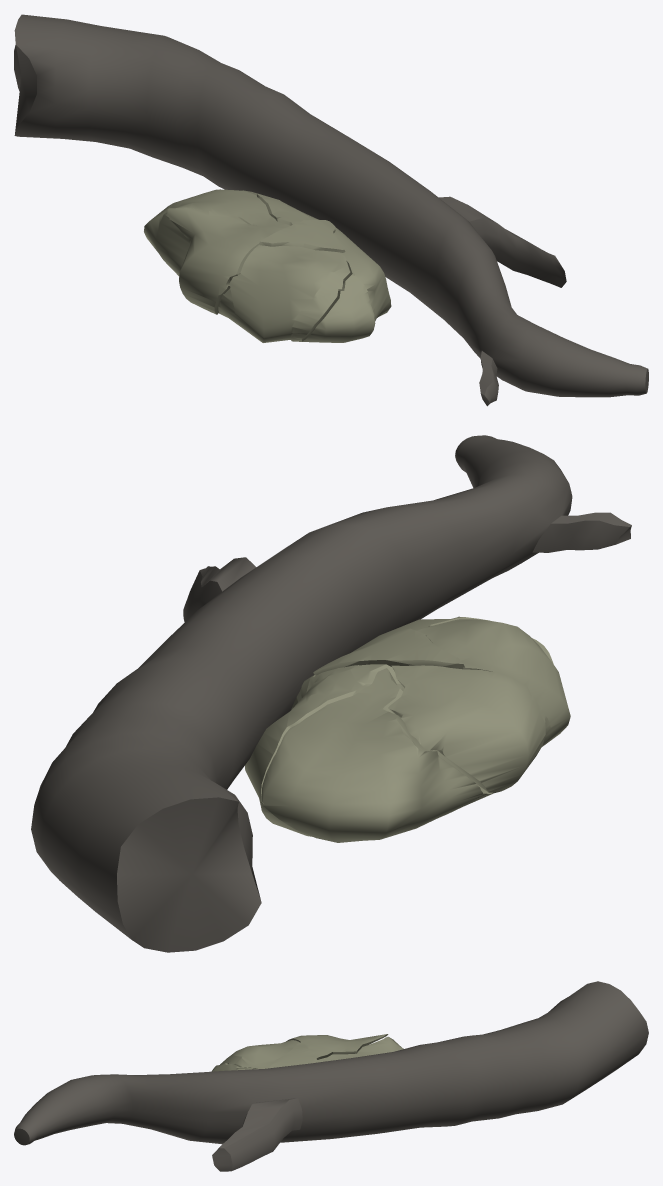
File: Twig_Rock.fbx
The picture shows the model from 3 angles, top to bottom: view 1: azimuth 30°, elevation 25°; view 2: azimuth 150°, elevation 25°; view 3: azimuth 270°, elevation 25°; orthographic projection. The views are drawn at different scales.
Visible parts, largest first — view 1: tiwg, rock1; view 2: tiwg, rock1; view 3: tiwg, rock1.
Boxes of the visible parts, bbox=[...] form: tiwg: bbox=[14, 14, 648, 406]; rock1: bbox=[144, 189, 391, 342]; tiwg: bbox=[31, 435, 631, 952]; rock1: bbox=[245, 616, 570, 842]; tiwg: bbox=[14, 981, 648, 1171]; rock1: bbox=[211, 1034, 403, 1071].
Bounding box in the file's own units: 34.6 × 16.22 × 86.92.
